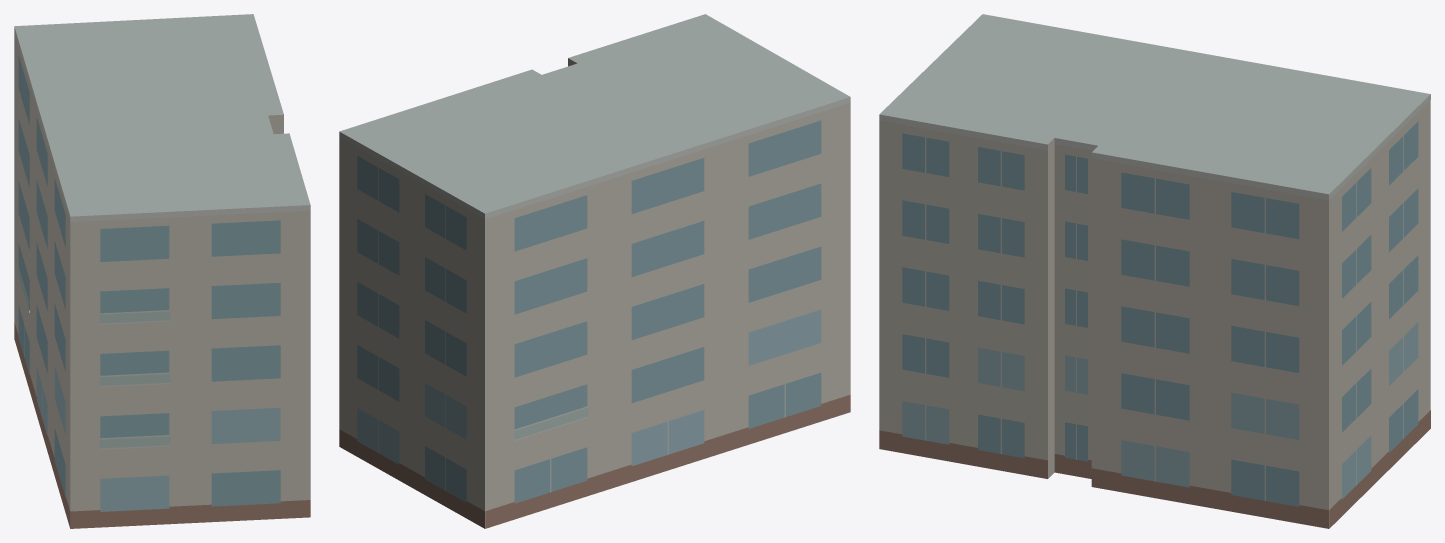
File: survey-upis-32720454.glb
3 views of the same model, side by side, from view 1: azimuth 30°, elevation 25°; view 2: azimuth 150°, elevation 25°; view 3: azimuth 270°, elevation 25° (orthographic). The views are drawn at different scales.
Parts seen in each view (by area): view 1: survey-upis-32720454.tmp; view 2: survey-upis-32720454.tmp; view 3: survey-upis-32720454.tmp.
Part boxes in pixels (box(x1,y1,x2,y2)): survey-upis-32720454.tmp: box(14, 14, 310, 528); survey-upis-32720454.tmp: box(339, 14, 850, 528); survey-upis-32720454.tmp: box(879, 14, 1430, 528).
Size of the model in its own units: 15.73 by 13.6 by 20.33.
